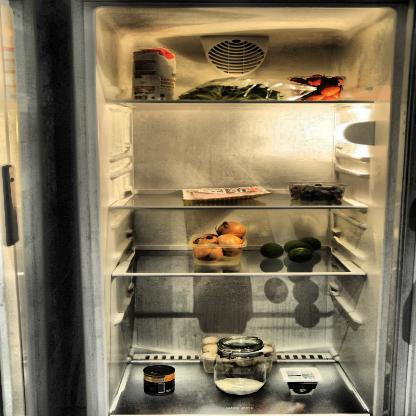blueberries: (288, 181, 346, 203)
corn: (142, 364, 175, 396)
green_beans: (181, 76, 320, 100)
lime: (260, 236, 323, 262)
mushrooms: (201, 337, 277, 374)
onion: (192, 220, 246, 266)
strawberries: (289, 72, 342, 99)
